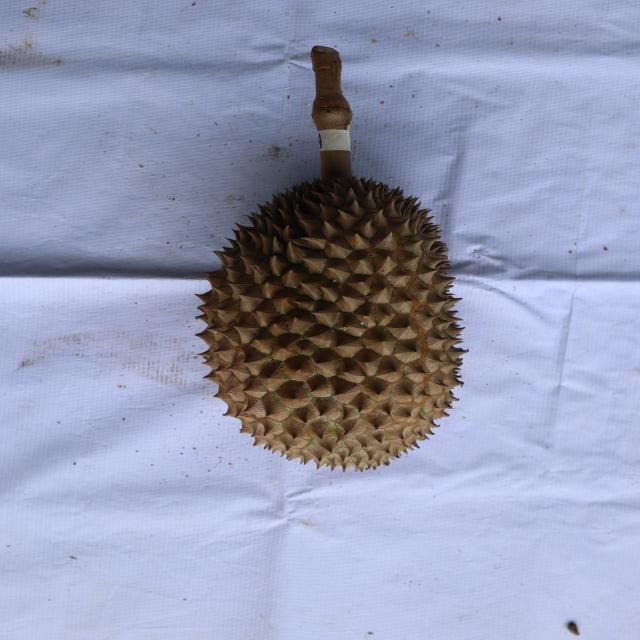mature: (190, 172, 468, 474)
